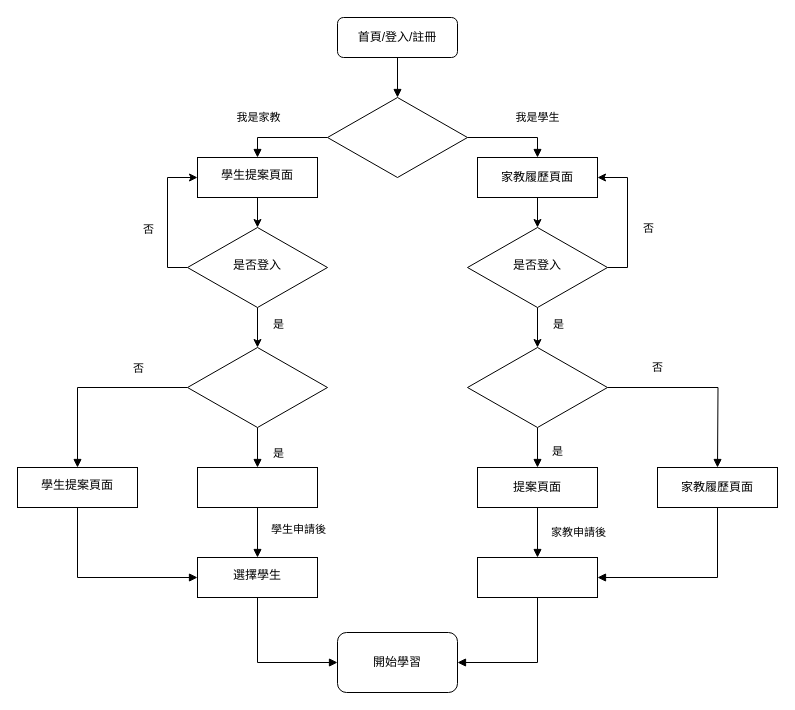
The diagram is 795 pixels wide and 710 high, and some of its shapes have lost their labels. The centre of each missing label's shape, as x and y in pixels:
"履歷編輯頁面" belongs at point 257,487.
"我是學生 or 我是家教" belongs at point 397,137.
"是否提出家教需求" belongs at point 537,387.
"是否提出履歷表" belongs at point 257,387.
"選擇家教" belongs at point 537,577.
